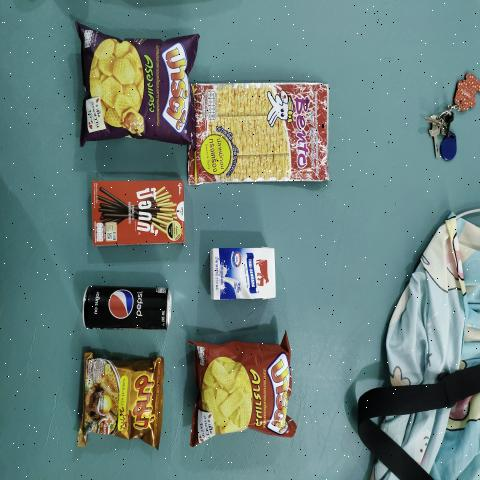bento_red: (195, 82, 329, 178)
mama: (90, 359, 159, 437)
party_purple: (84, 29, 189, 144)
party_red: (201, 346, 288, 433)
pepsi_black: (84, 287, 172, 328)
pokki: (91, 180, 184, 242)
thai_denmark: (210, 248, 276, 302)
